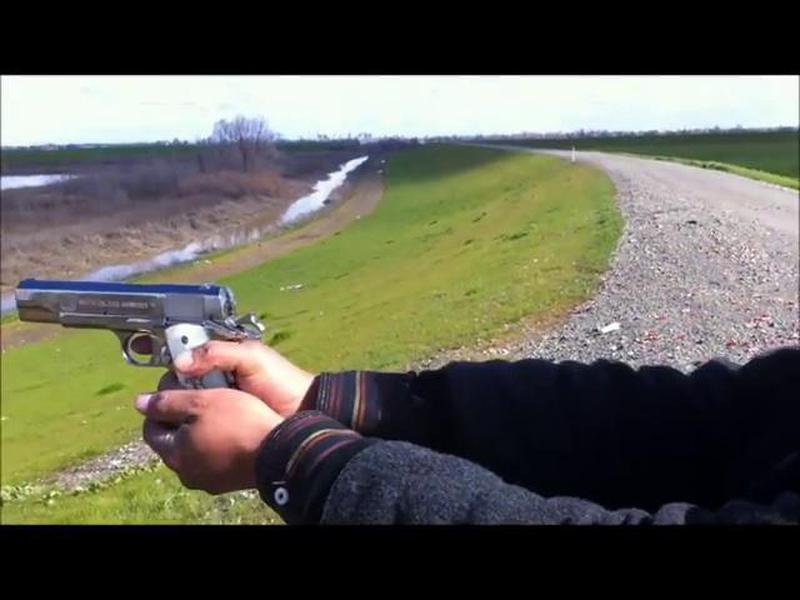Pistola: (13, 264, 254, 428)
